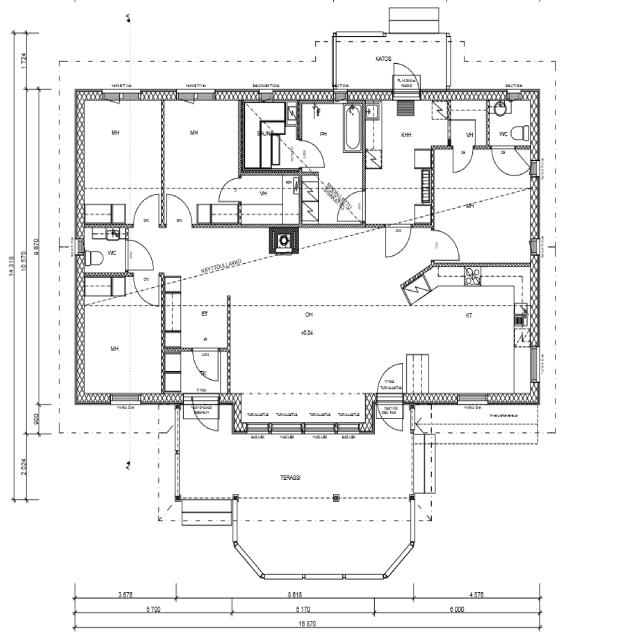door: (128, 190, 159, 264), (430, 226, 462, 262), (125, 236, 156, 272), (190, 346, 220, 383), (191, 394, 220, 432), (131, 191, 161, 227), (164, 190, 194, 226), (384, 222, 412, 258), (376, 397, 404, 433), (376, 361, 405, 393), (391, 61, 421, 91), (490, 143, 516, 177), (300, 137, 327, 168), (341, 189, 366, 220), (451, 144, 475, 174), (217, 175, 242, 203)
window: (176, 87, 217, 102), (528, 343, 542, 385), (302, 420, 338, 436), (108, 86, 144, 102), (172, 448, 183, 497), (269, 421, 304, 436), (406, 497, 417, 544), (108, 391, 142, 406), (456, 392, 489, 406), (335, 421, 362, 435)
zone: (415, 282, 530, 400), (79, 97, 163, 225), (79, 276, 163, 402), (162, 99, 240, 198), (364, 98, 450, 174), (297, 101, 363, 157), (238, 173, 301, 225), (80, 224, 128, 276), (488, 98, 538, 146), (330, 102, 366, 154), (449, 104, 488, 146)
